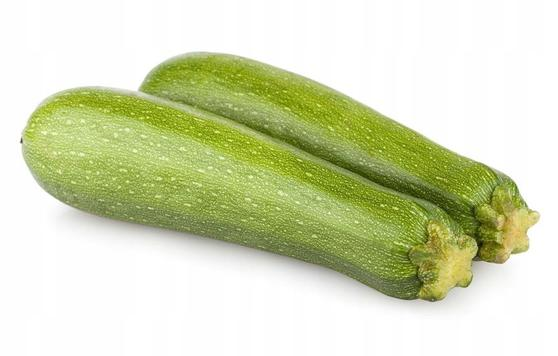zucchini: (17, 89, 477, 302)
